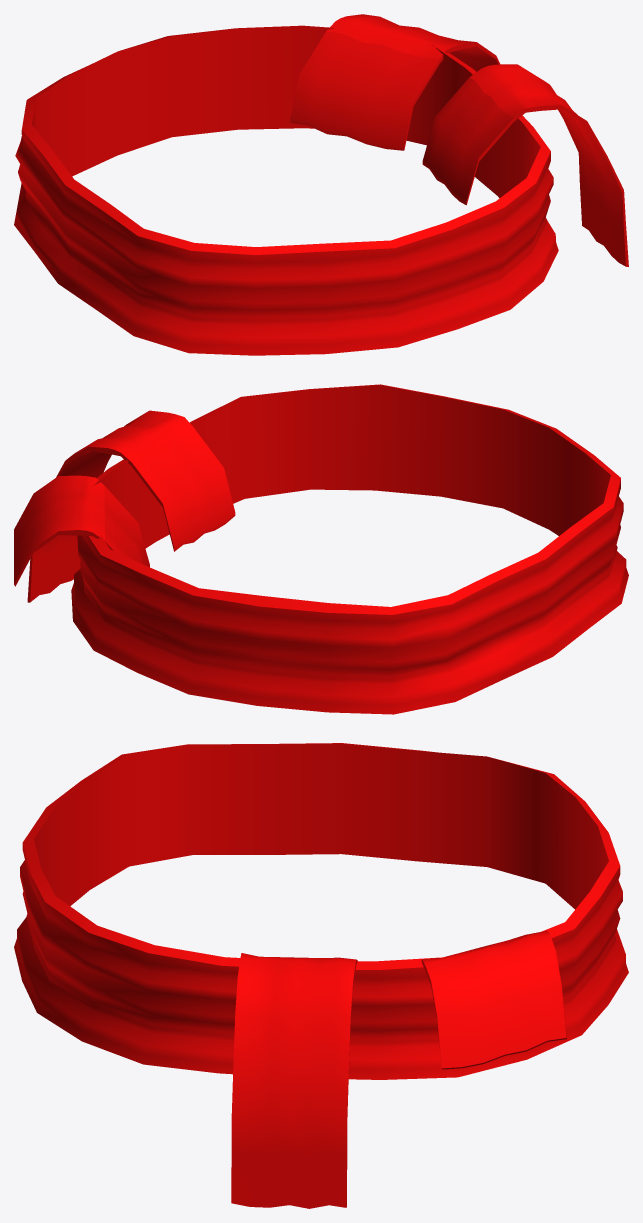
Rendered from Bandana.fbx.
3 views of the same model, one above another, from view 1: azimuth 30°, elevation 25°; view 2: azimuth 150°, elevation 25°; view 3: azimuth 270°, elevation 25° (orthographic). The views are drawn at different scales.
Parts seen in each view (by area): view 1: Bandana; view 2: Bandana; view 3: Bandana.
Boxes of the visible parts, x1,y1,x2,y2 form: Bandana: [14, 14, 628, 355]; Bandana: [14, 384, 628, 714]; Bandana: [14, 743, 628, 1208].
Bounding box in the file's own units: 37.55 × 12.52 × 34.56.
